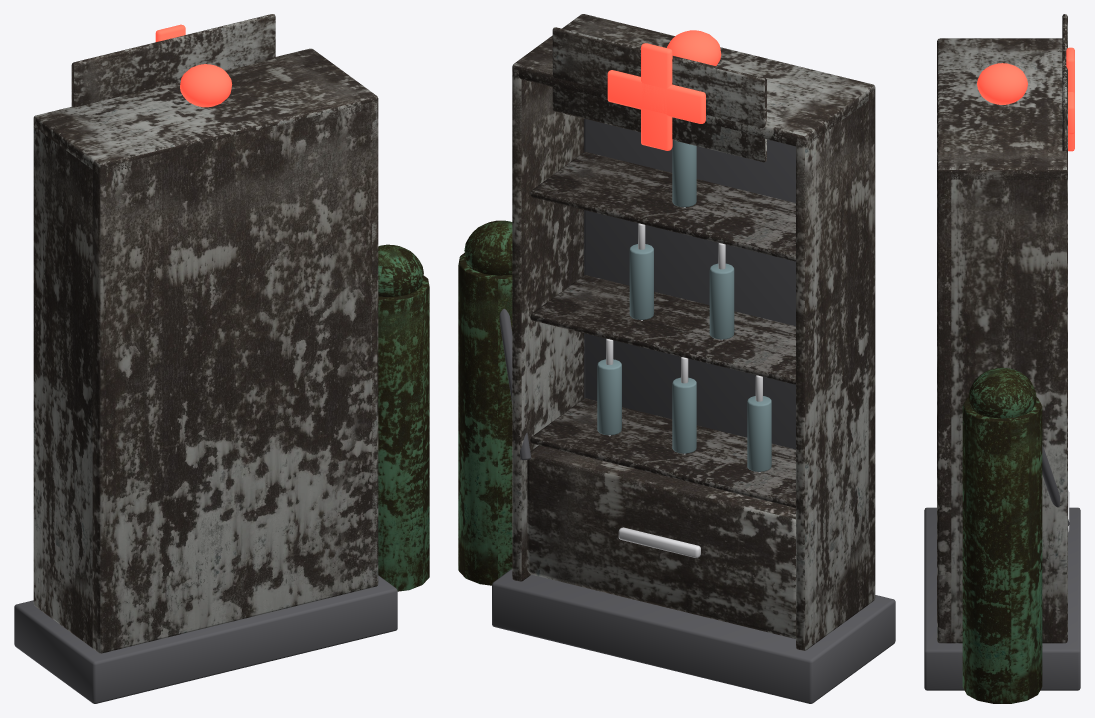
Rendered from prop_med_station.glb.
The picture shows the model from 3 angles, left to right: view 1: azimuth 30°, elevation 25°; view 2: azimuth 150°, elevation 25°; view 3: azimuth 270°, elevation 25°; orthographic projection. The views are drawn at different scales.
Visible parts, largest first — view 1: Root_Geo; view 2: Root_Geo; view 3: Root_Geo.
Part boxes in pixels (x1=…): Root_Geo: x1=14, y1=14, x2=429, y2=703; Root_Geo: x1=458, y1=14, x2=895, y2=703; Root_Geo: x1=924, y1=14, x2=1080, y2=703.
Bounding box in the file's own units: 1.46 × 2.2 × 0.55.
Materials: 8 (3 with a texture image).
